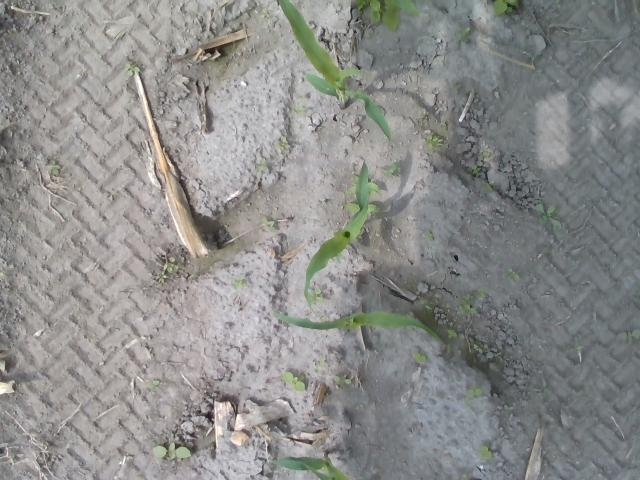Maize: (276, 0, 394, 143), (303, 160, 376, 304), (273, 306, 446, 346), (268, 450, 352, 480)
Weeds: (356, 1, 422, 33), (458, 288, 487, 316), (152, 442, 194, 461), (536, 202, 562, 228), (349, 174, 379, 196), (158, 255, 178, 284), (282, 371, 309, 392), (617, 325, 640, 345), (346, 201, 378, 215), (492, 1, 522, 15), (272, 134, 292, 154), (463, 386, 482, 407), (424, 130, 446, 147), (261, 214, 278, 232), (382, 161, 400, 177), (306, 288, 324, 304), (334, 374, 353, 387), (46, 160, 61, 176), (313, 358, 328, 373), (478, 444, 492, 460), (146, 376, 161, 390), (124, 63, 140, 76), (480, 180, 496, 192), (504, 272, 522, 282), (256, 159, 271, 171), (468, 164, 482, 176), (480, 146, 492, 160), (232, 277, 246, 289), (446, 328, 461, 339), (414, 352, 426, 364), (425, 231, 434, 241)
